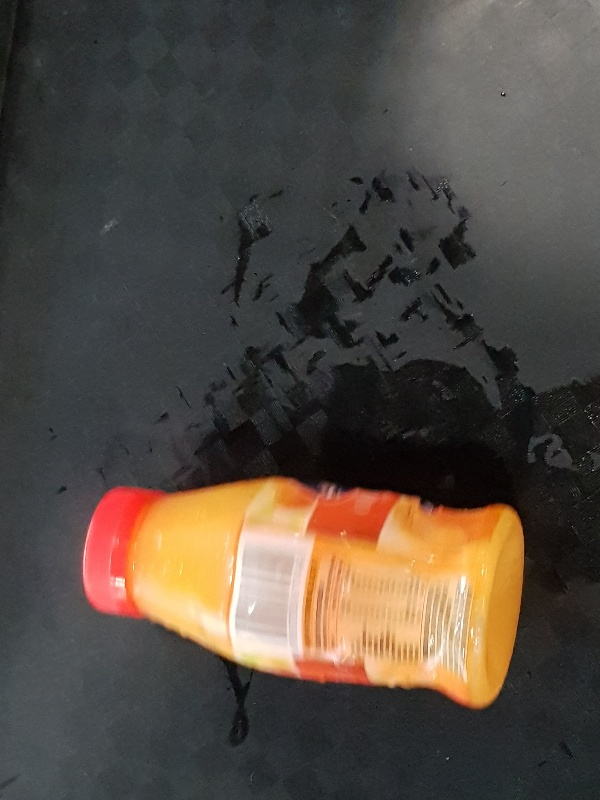Sunkist Orange Juice Drink: (80, 474, 527, 711)
